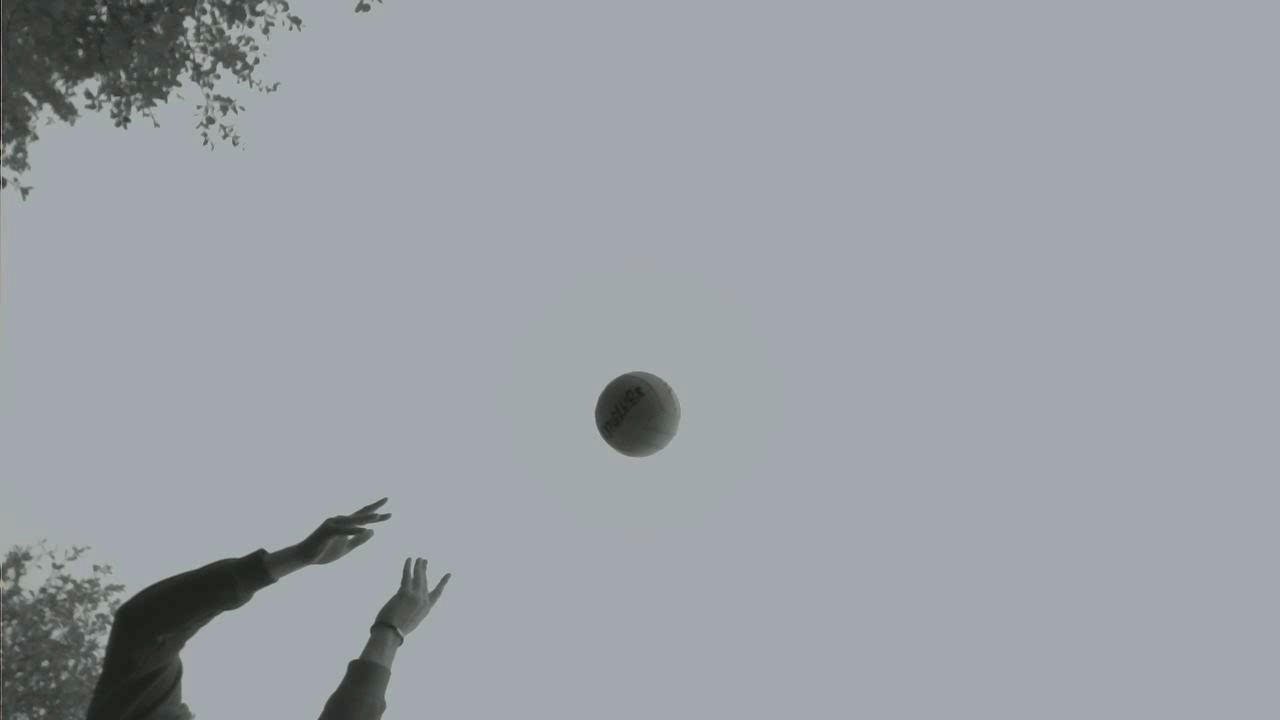Football-Spotter: (595, 371, 679, 456)
